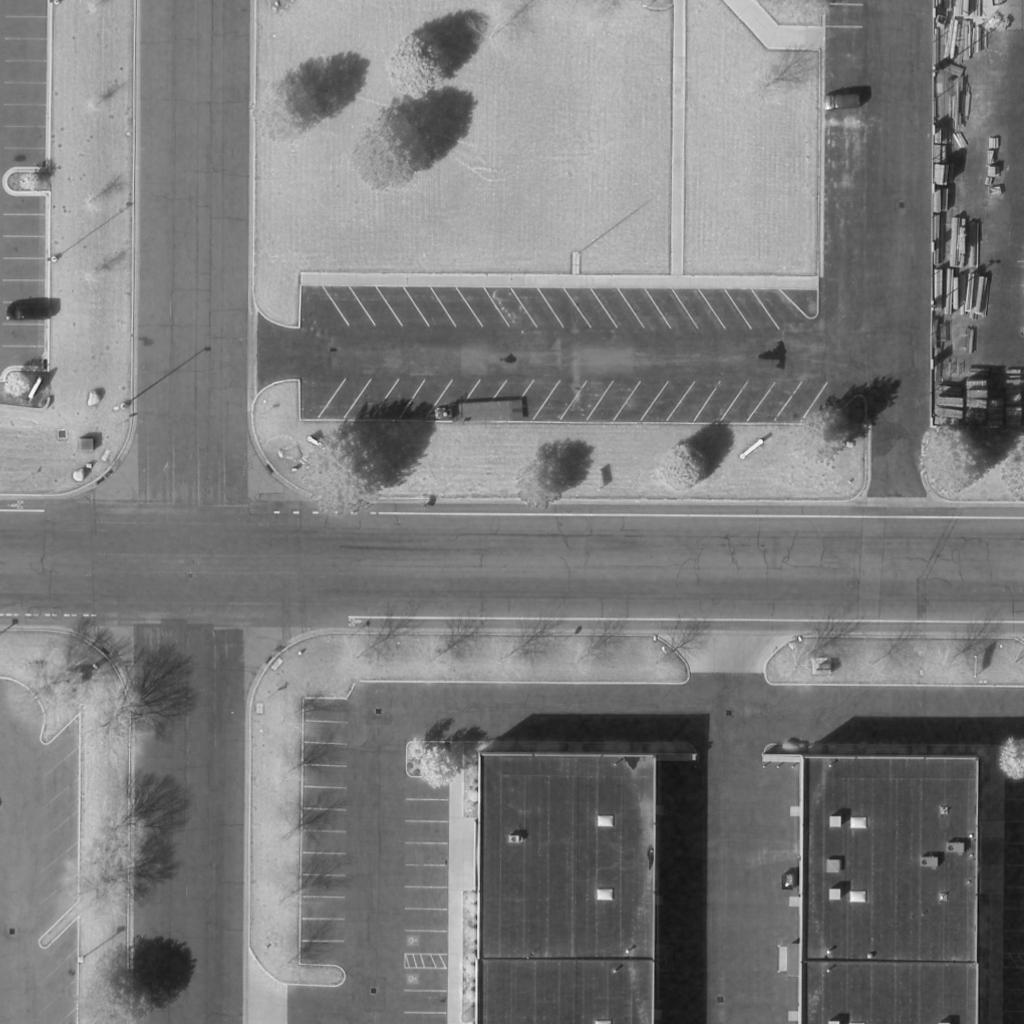vehicle: (5, 304, 49, 322), (821, 92, 861, 108)
